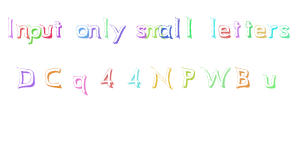4: (99, 67, 115, 89), (126, 67, 142, 89)
B: (234, 66, 251, 90)
C: (43, 66, 62, 89)
D: (14, 64, 36, 89)
I: (3, 15, 19, 39)
N: (149, 64, 173, 89)
P: (181, 66, 196, 88)
W: (200, 66, 231, 89)
a: (158, 23, 173, 40)
e: (217, 23, 231, 38), (253, 23, 266, 39)
l: (183, 15, 195, 40), (208, 15, 218, 39), (173, 15, 182, 39), (101, 16, 110, 38)
m: (145, 24, 161, 40)
n: (15, 22, 30, 39), (87, 22, 101, 39)
o: (74, 23, 89, 39)
p: (26, 22, 43, 44)
q: (71, 74, 89, 96)
r: (267, 23, 279, 39)
s: (134, 23, 147, 38), (279, 24, 291, 39)
t: (243, 16, 254, 37), (231, 18, 242, 38), (53, 19, 63, 37)
u: (39, 22, 54, 40), (262, 73, 277, 89)
y: (109, 22, 126, 44)
